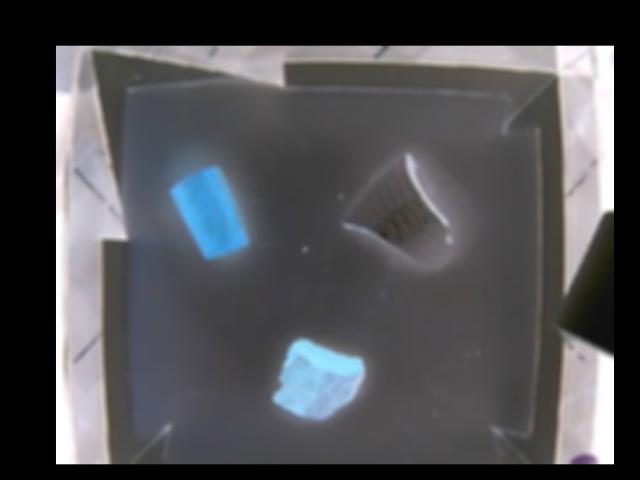Brisk: (270, 337, 367, 423)
Carrot: (168, 164, 249, 261)
China: (341, 152, 454, 269)
